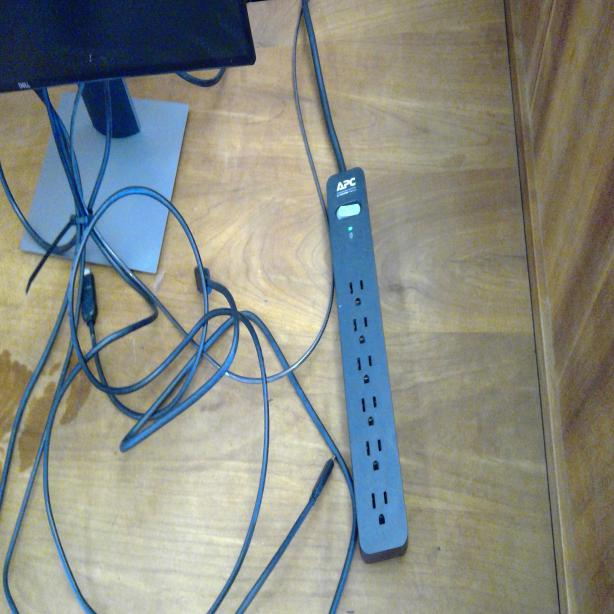typeb: (369, 485, 392, 531), (364, 436, 386, 471), (345, 272, 367, 307), (356, 350, 377, 386), (358, 392, 380, 426), (352, 313, 371, 348)
